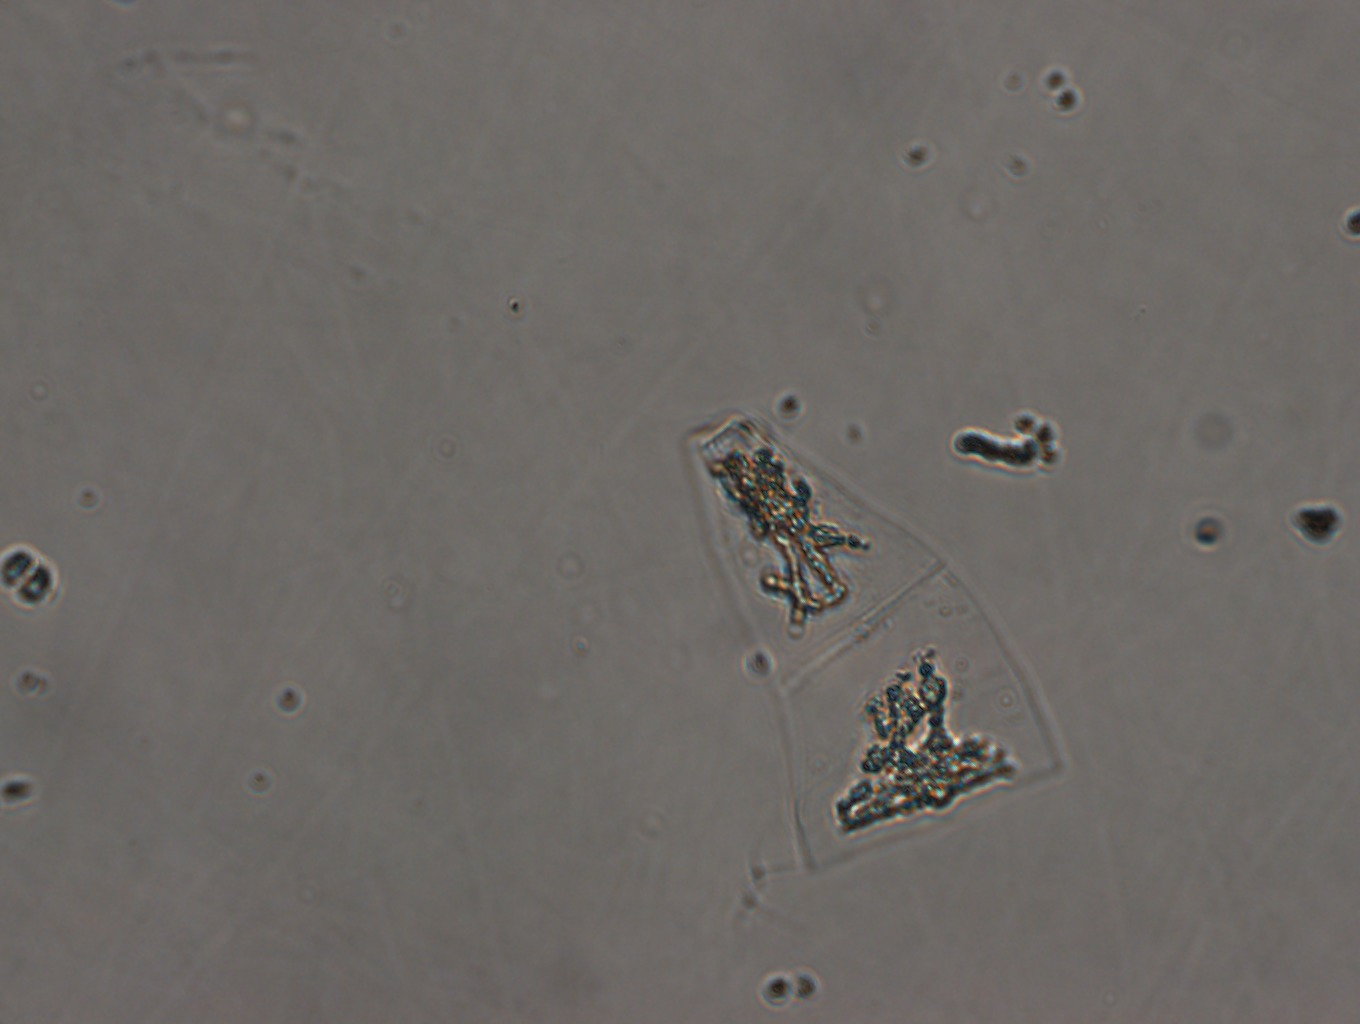helicotheca: (687, 408, 1064, 874)
